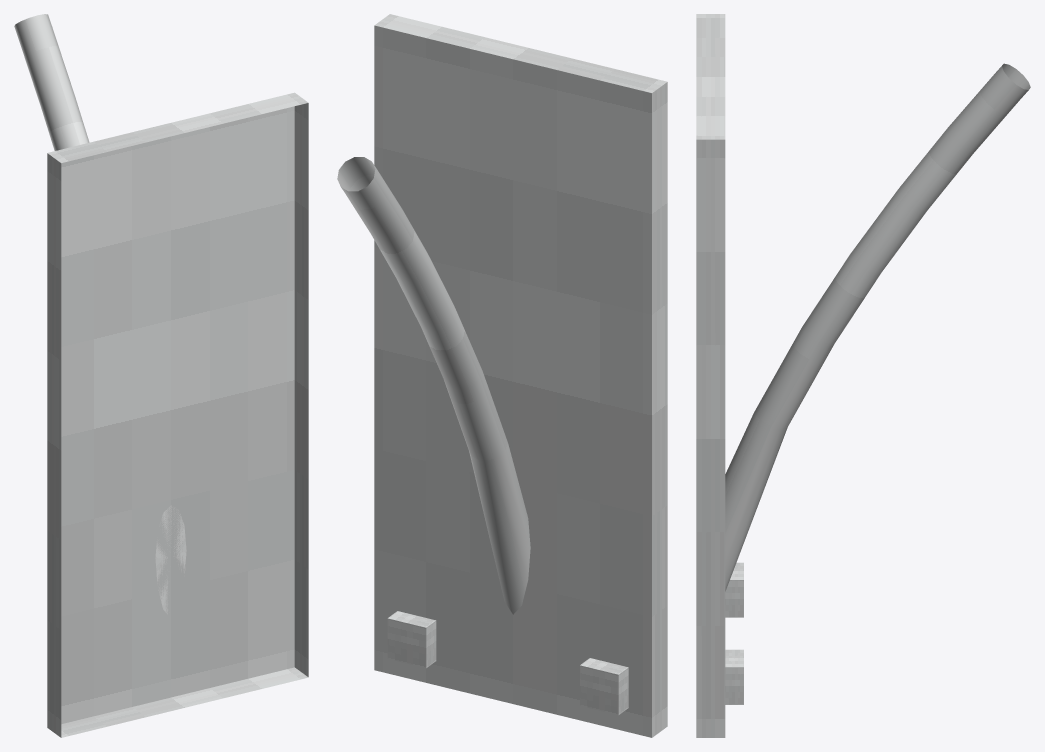
File: luminairearm_laupsweep12ft_c1_wall.obj
The picture shows the model from 3 angles, left to right: view 1: azimuth 30°, elevation 25°; view 2: azimuth 150°, elevation 25°; view 3: azimuth 270°, elevation 25°; orthographic projection. The views are drawn at different scales.
Parts seen in each view (by area): view 1: luminairearm_laupsweep12ft_c1_wall; view 2: luminairearm_laupsweep12ft_c1_wall; view 3: luminairearm_laupsweep12ft_c1_wall.
Boxes of the visible parts, x1,y1,x2,y2 form: luminairearm_laupsweep12ft_c1_wall: (14, 14, 308, 737); luminairearm_laupsweep12ft_c1_wall: (337, 14, 667, 737); luminairearm_laupsweep12ft_c1_wall: (696, 14, 1030, 737).
Bounding box in the file's own units: 0.4476 × 1.01 × 0.5034.
